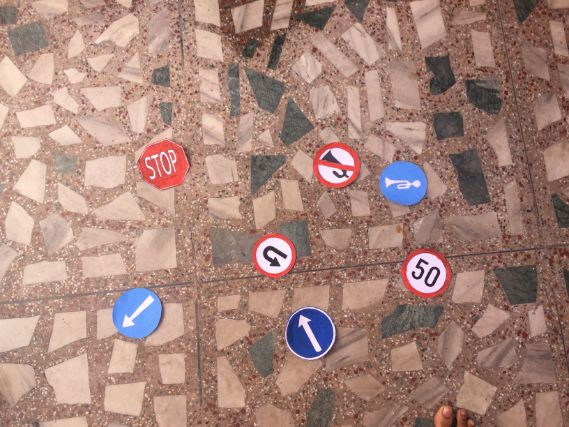blow-horn: (380, 163, 428, 207)
go-stright: (286, 308, 337, 359)
keep-left: (112, 287, 160, 339)
no-horn: (314, 144, 362, 191)
speed-50: (402, 248, 453, 300)
stop: (137, 139, 192, 190)
u-turn: (253, 235, 300, 279)
